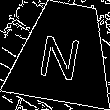N_N: (39, 24, 88, 80)
